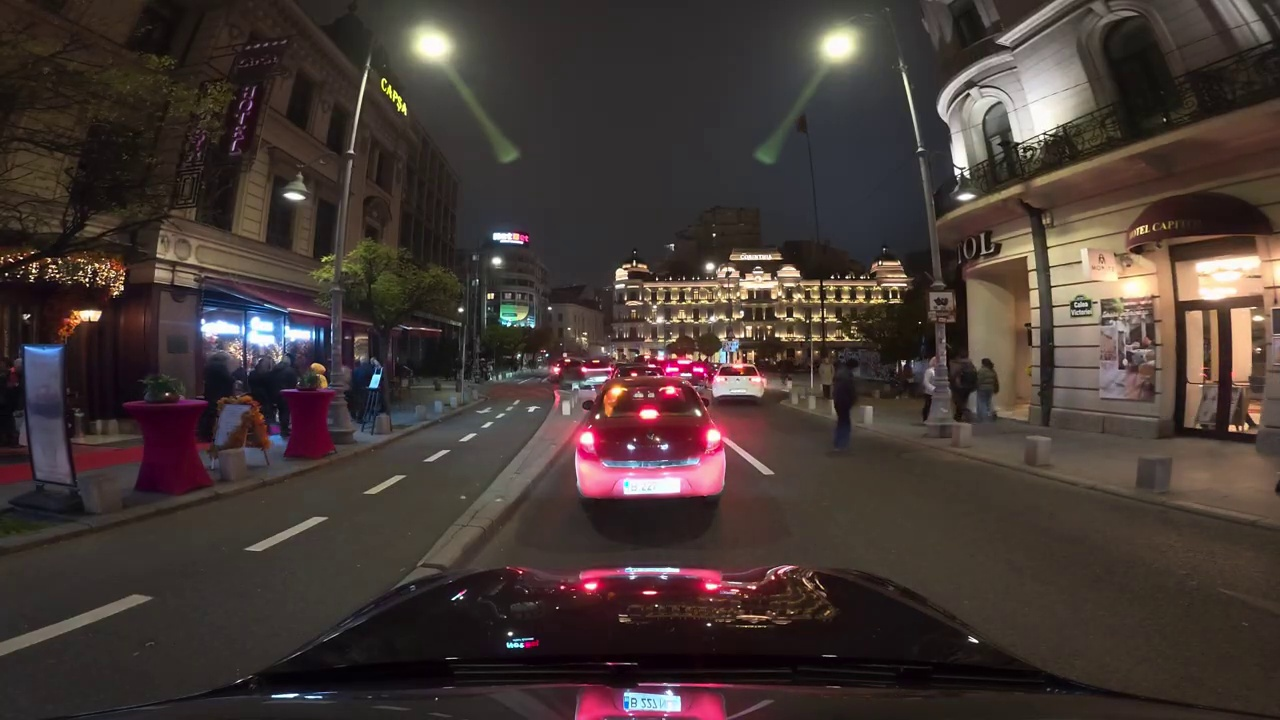acesa: (412, 28, 452, 63), (819, 30, 857, 63)
